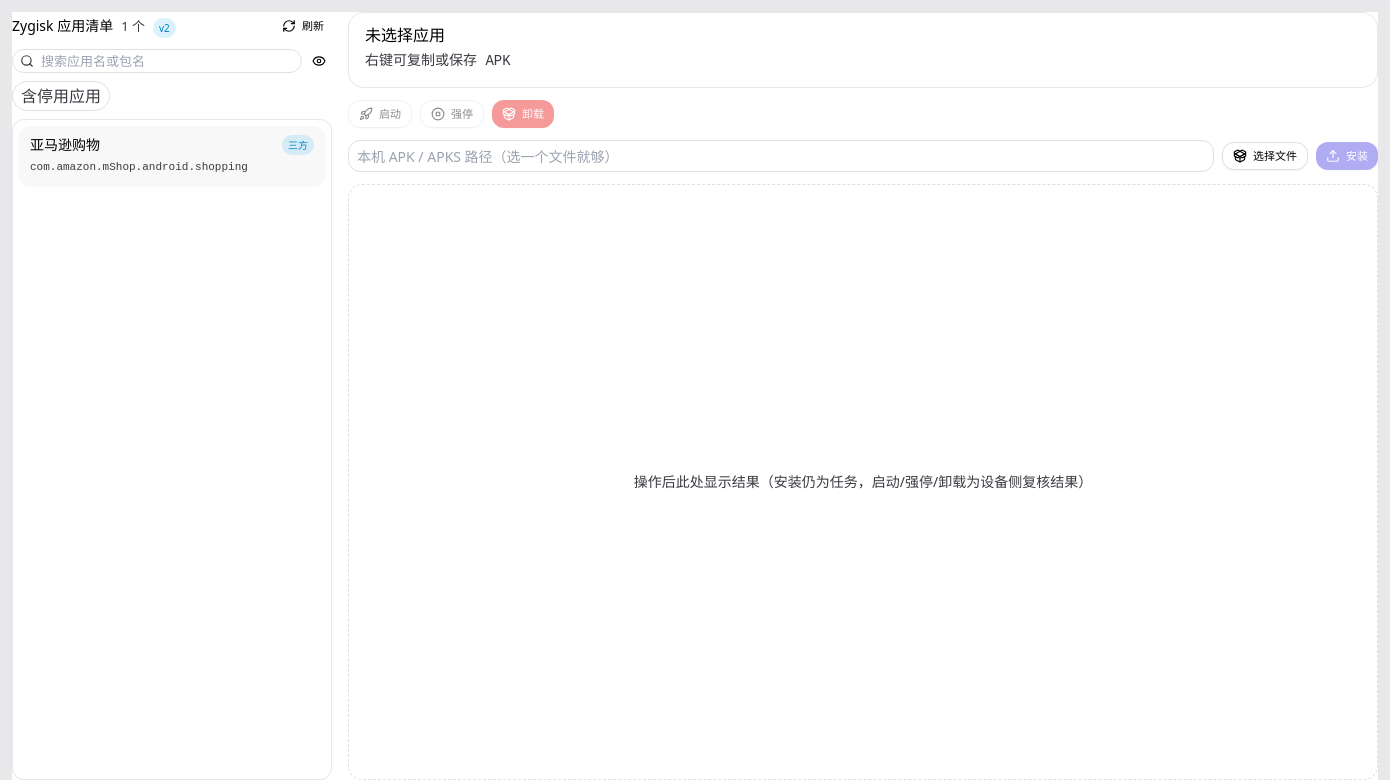
应用页 · 默认三方 + 一个眼睛开关 + 本地搜索 › 三方范围里搜不到的东西要说明可能被藏起来了，而不是空列表了事
Check: the text "亚马逊购物" is shown, box [30,135,100,154]
Type "settings" into the search field with test id "apps-search" at x=157, y=61, box [12,49,302,73]
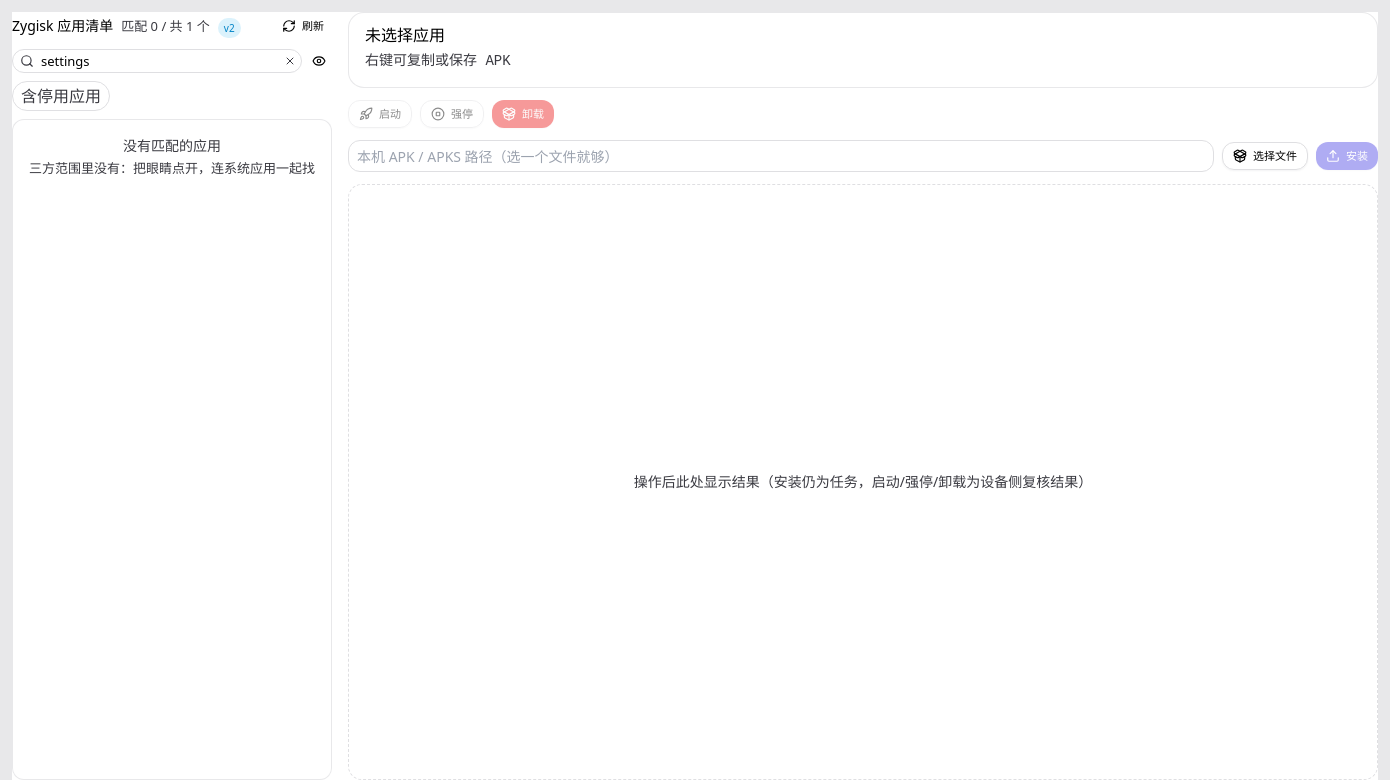
Check: the text "没有匹配的应用" is shown, box [123,136,221,155]
Check: the text "三方范围里没有：把眼睛点开，连系统应用一起找" is shown, box [25,160,319,176]
Click the button with test id "apps-toggle-system" at x=319, y=60, box [306,48,332,72]
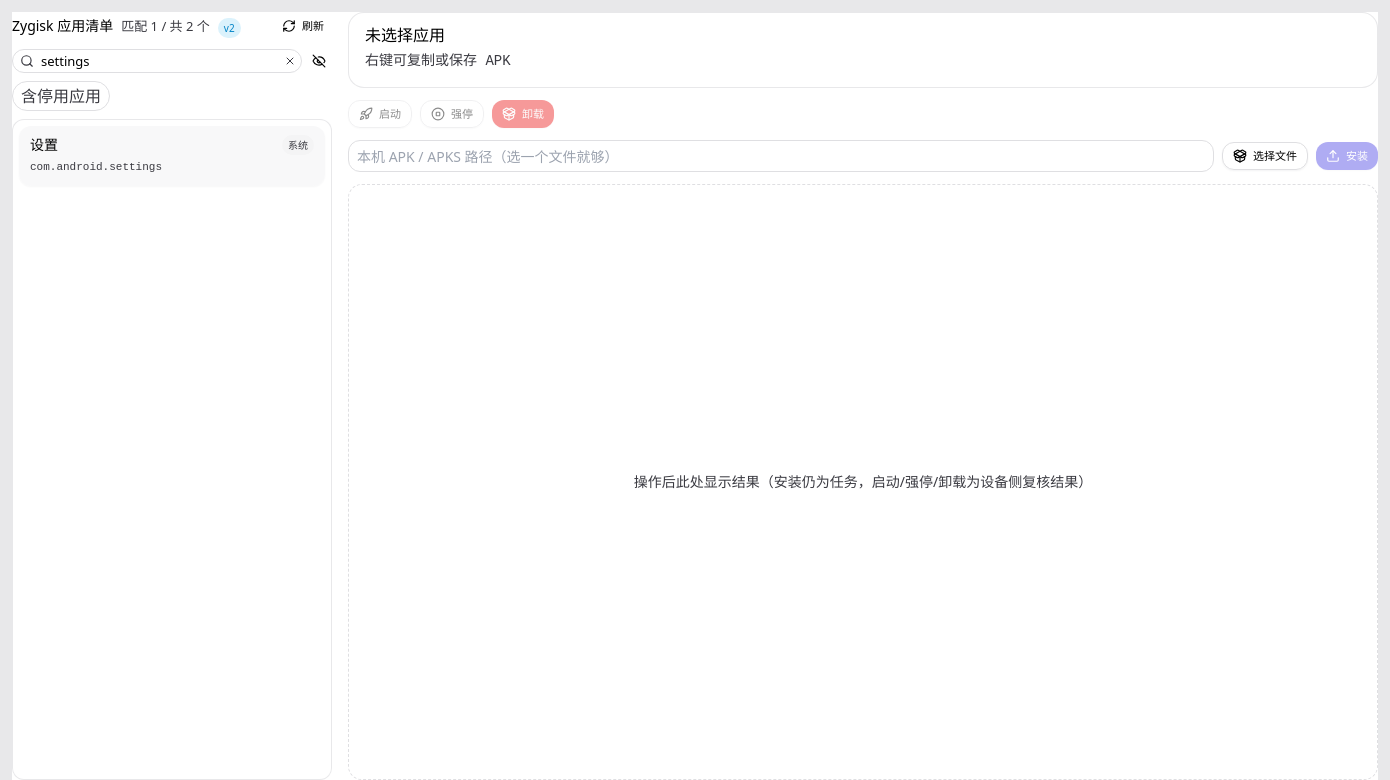
Check: the text "设置" is shown, box [30,135,58,154]
